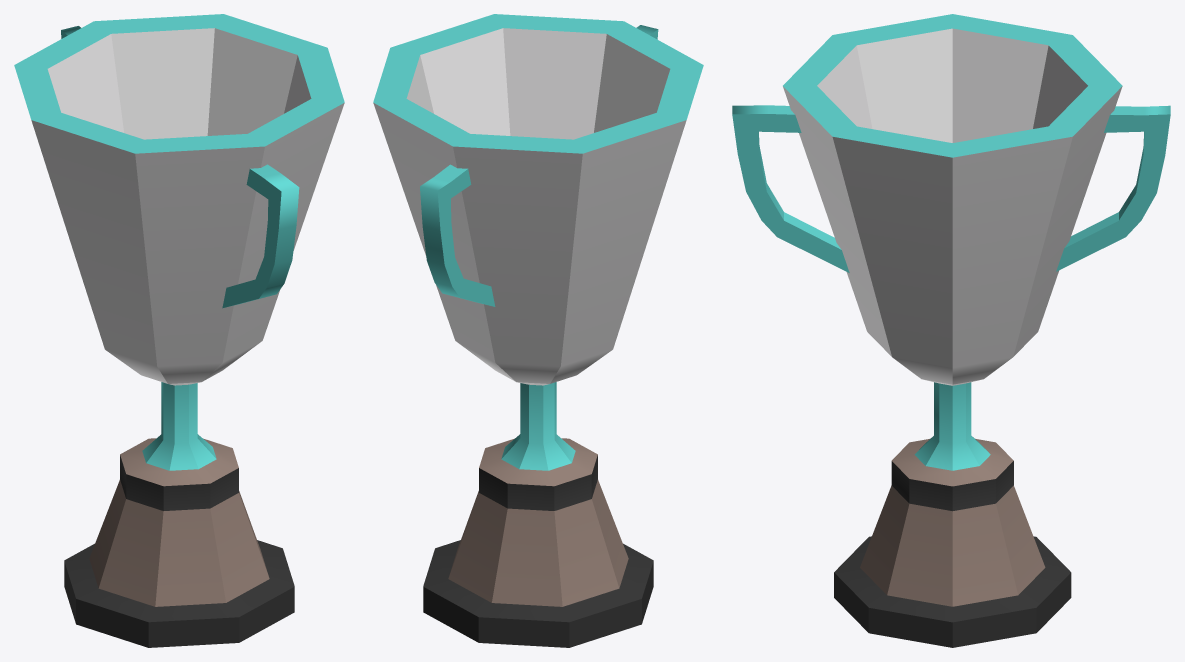
File: Trophy_Award_Silver.fbx
3 views of the same model, side by side, from view 1: azimuth 30°, elevation 25°; view 2: azimuth 150°, elevation 25°; view 3: azimuth 270°, elevation 25° (orthographic).
Parts seen in each view (by area): view 1: Trophy_Silver; view 2: Trophy_Silver; view 3: Trophy_Silver.
Part boxes in pixels (bbox=[...]): Trophy_Silver: bbox=[14, 14, 344, 647]; Trophy_Silver: bbox=[373, 14, 703, 647]; Trophy_Silver: bbox=[732, 14, 1170, 647].
Bounding box in the file's own units: 20.54 × 34.13 × 26.49.
